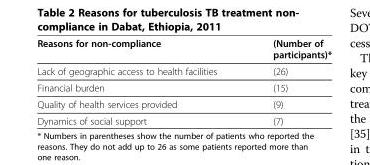table: (36, 37, 331, 126)
table column: (36, 37, 244, 126), (244, 37, 331, 126)
table column header: (36, 37, 331, 62)
table row: (36, 37, 331, 62), (36, 62, 331, 79), (36, 95, 331, 112), (36, 79, 331, 95), (36, 112, 331, 126)
